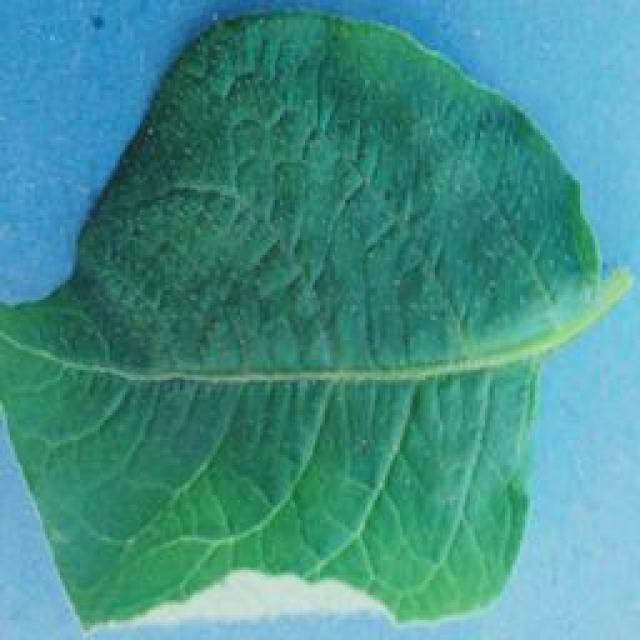Potato_Healthy: (5, 14, 625, 630)
